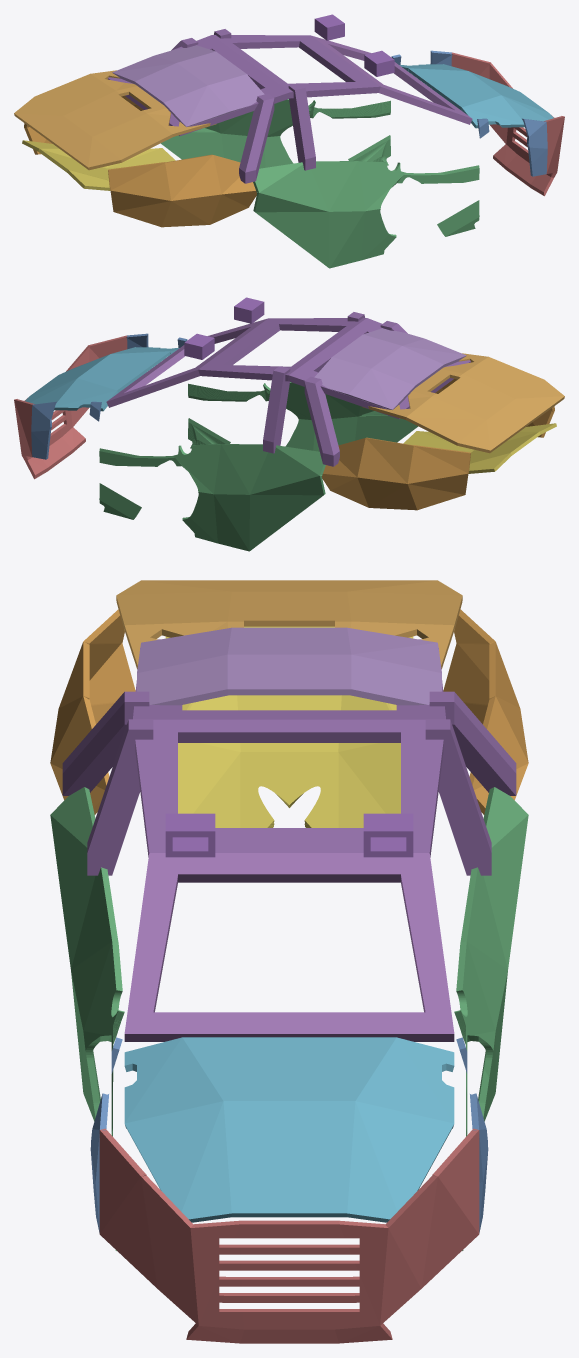
The model's file is WS03_blueprint_shell.glb.
3 renders of one model, top to bottom at view 1: azimuth 30°, elevation 25°; view 2: azimuth 150°, elevation 25°; view 3: azimuth 270°, elevation 25°, orthographic. The views are drawn at different scales.
Visible parts, largest first — view 1: P8R_Side_Panel, P9_Rear_Upper_Cover, P5_Roof_Frame, P10R_Rear_Side_Cover, P6_Roof_Panel, P8L_Side_Panel, P3_Hood_Panel, P1_Front_Nose_Grille, P4_Windshield_Frame, P11_Rear_Lower_Diffuser, P2R_Front_Side_Panel, P7R_Roof_Light (+3 smaller); view 2: P8L_Side_Panel, P9_Rear_Upper_Cover, P5_Roof_Frame, P10L_Rear_Side_Cover, P6_Roof_Panel, P8R_Side_Panel, P3_Hood_Panel, P1_Front_Nose_Grille, P4_Windshield_Frame, P11_Rear_Lower_Diffuser, P2L_Front_Side_Panel, P7L_Roof_Light (+3 smaller); view 3: P3_Hood_Panel, P1_Front_Nose_Grille, P5_Roof_Frame, P4_Windshield_Frame, P6_Roof_Panel, P11_Rear_Lower_Diffuser, P9_Rear_Upper_Cover, P8R_Side_Panel, P8L_Side_Panel, P10L_Rear_Side_Cover, P10R_Rear_Side_Cover, P7L_Roof_Light (+3 smaller).
Boxes of the visible parts, x1,y1,x2,y2 form: P8R_Side_Panel: [253, 161, 479, 268]; P9_Rear_Upper_Cover: [14, 70, 216, 170]; P5_Roof_Frame: [108, 29, 380, 183]; P10R_Rear_Side_Cover: [108, 154, 256, 227]; P6_Roof_Panel: [112, 45, 264, 126]; P8L_Side_Panel: [161, 99, 390, 168]; P3_Hood_Panel: [399, 64, 553, 128]; P1_Front_Nose_Grille: [451, 52, 564, 196]; P4_Windshield_Frame: [311, 35, 472, 124]; P11_Rear_Lower_Diffuser: [22, 140, 175, 190]; P2R_Front_Side_Panel: [477, 118, 547, 176]; P7R_Roof_Light: [364, 50, 394, 76]; P8L_Side_Panel: [99, 444, 325, 551]; P9_Rear_Upper_Cover: [362, 353, 564, 453]; P5_Roof_Frame: [198, 312, 470, 466]; P10L_Rear_Side_Cover: [322, 437, 470, 510]; P6_Roof_Panel: [314, 328, 466, 409]; P8R_Side_Panel: [188, 382, 417, 451]; P3_Hood_Panel: [25, 347, 179, 411]; P1_Front_Nose_Grille: [14, 335, 127, 479]; P4_Windshield_Frame: [106, 318, 267, 407]; P11_Rear_Lower_Diffuser: [403, 423, 556, 473]; P2L_Front_Side_Panel: [31, 401, 101, 459]; P7L_Roof_Light: [184, 333, 214, 359]; P3_Hood_Panel: [124, 1037, 454, 1222]; P1_Front_Nose_Grille: [99, 1128, 479, 1343]; P5_Roof_Frame: [62, 639, 516, 875]; P4_Windshield_Frame: [124, 853, 454, 1041]; P6_Roof_Panel: [137, 627, 441, 705]; P11_Rear_Lower_Diffuser: [165, 626, 413, 827]; P9_Rear_Upper_Cover: [116, 580, 462, 668]; P8R_Side_Panel: [50, 787, 124, 1250]; P8L_Side_Panel: [454, 787, 528, 1250]; P10L_Rear_Side_Cover: [443, 609, 528, 814]; P10R_Rear_Side_Cover: [50, 609, 135, 814]; P7L_Roof_Light: [363, 813, 413, 857].
Size of the model in its own units: 399 by 146 by 169.
